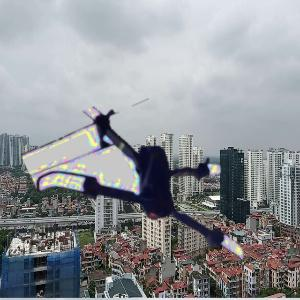drone: (49, 90, 259, 300)
